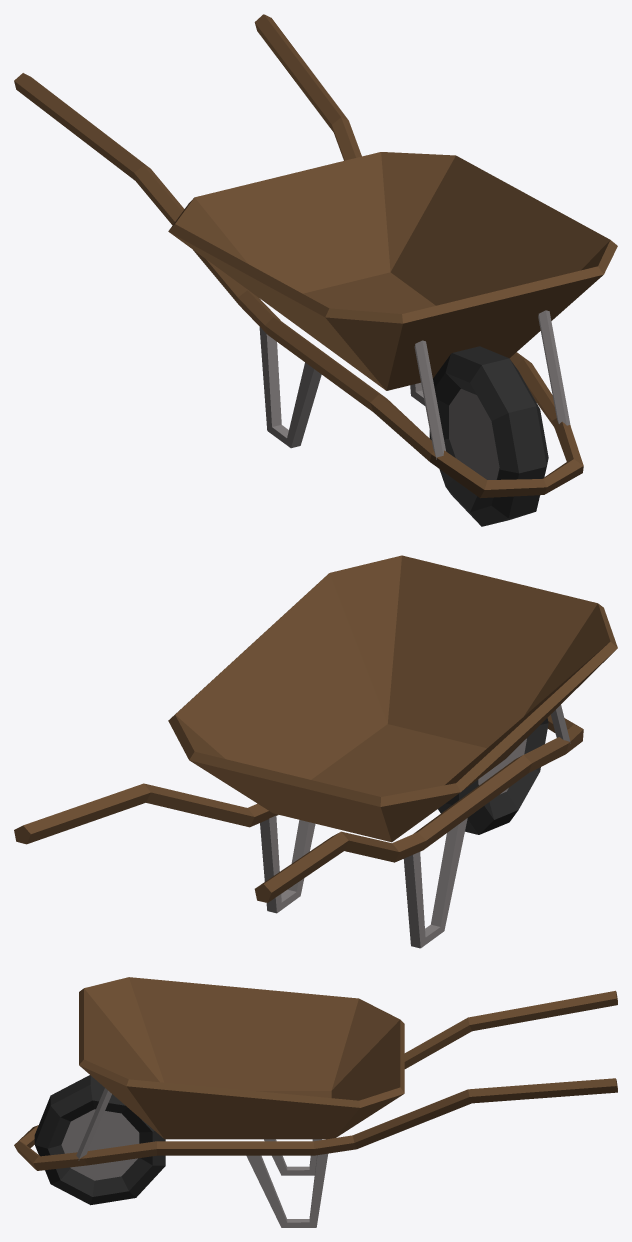
The model's file is tools_wheels.fbx.
3 renders of one model, top to bottom at view 1: azimuth 30°, elevation 25°; view 2: azimuth 150°, elevation 25°; view 3: azimuth 270°, elevation 25°, orthographic. The views are drawn at different scales.
Parts seen in each view (by area): view 1: tools_wheels; view 2: tools_wheels; view 3: tools_wheels.
Part boxes in pixels (x1,y1,x2,y2): tools_wheels: (14, 14, 617, 526); tools_wheels: (14, 555, 617, 948); tools_wheels: (14, 977, 617, 1227).
Size of the model in its own units: 83.46 by 64.43 by 200.
